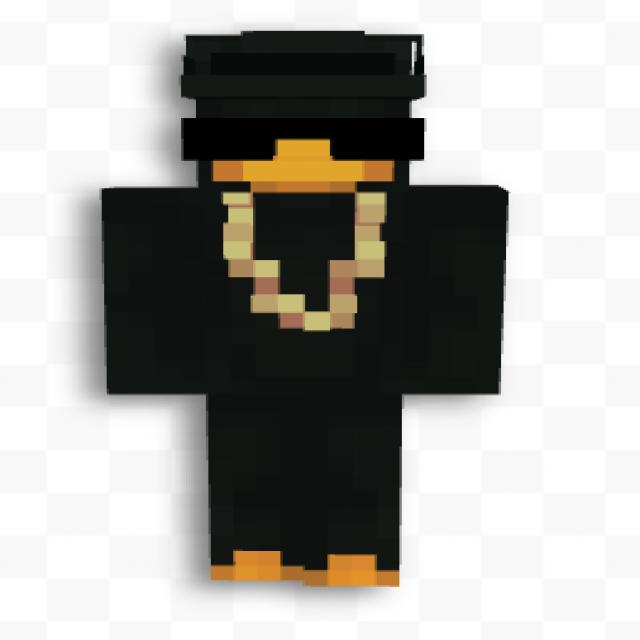Player: (102, 30, 510, 586)
